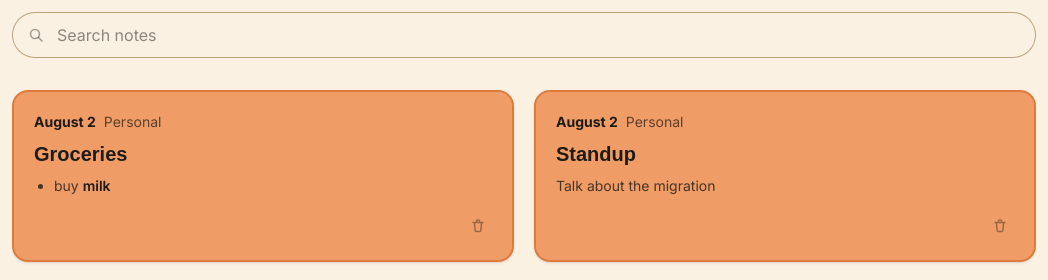
Scenario: NoteSearch › filters by title as the user types, case-insensitively
Type "grocer" into the search field labelled "Search notes" at (524,35), box [12, 12, 1036, 58]
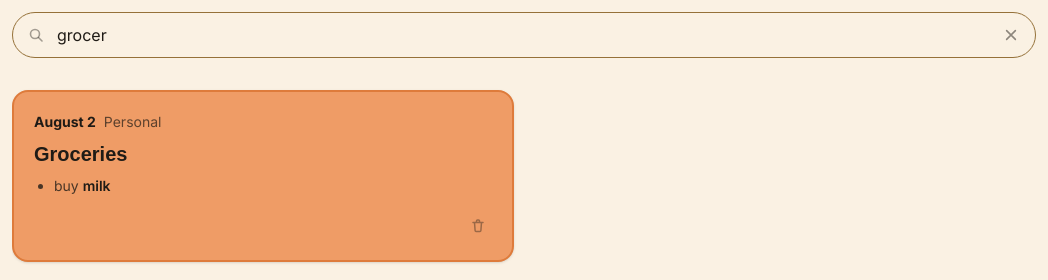
Expected: the heading "Groceries" is shown, [34, 143, 127, 165]
Result: the link "Standup" is gone
